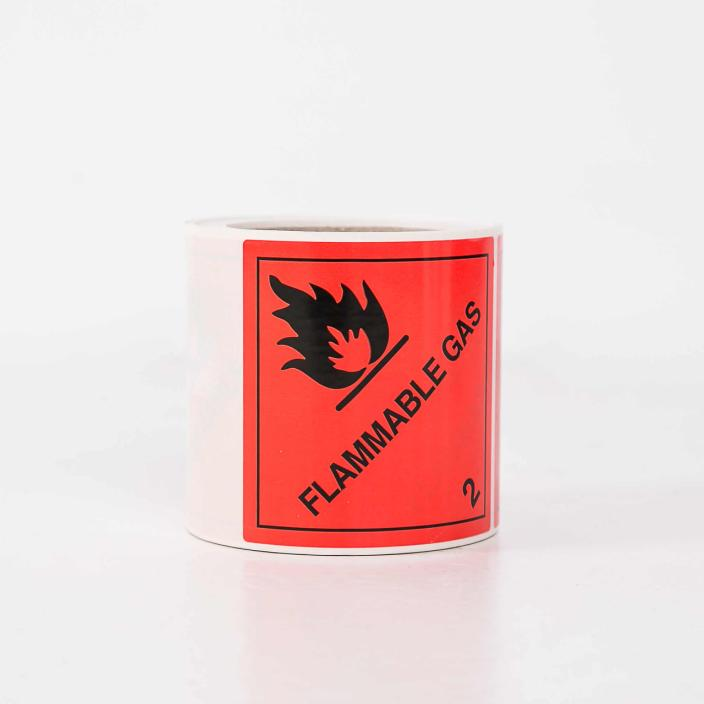bench: (239, 236, 496, 550)
